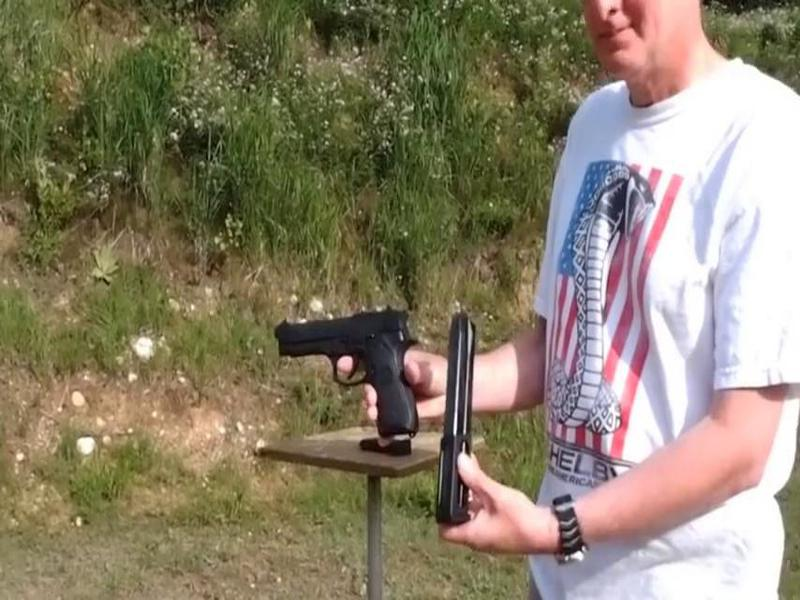Pistola: (256, 281, 426, 464)
